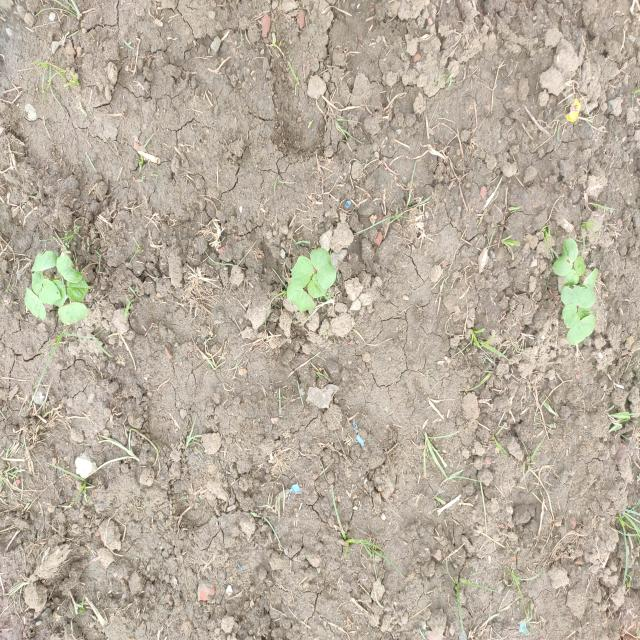seedling: (311, 248, 336, 289), (553, 238, 578, 276), (287, 280, 315, 313), (567, 315, 596, 345), (56, 252, 82, 284), (561, 285, 595, 308), (24, 288, 46, 321), (291, 257, 314, 287), (58, 303, 89, 325), (39, 278, 62, 305), (66, 278, 91, 302), (31, 251, 57, 272), (308, 273, 326, 298), (562, 304, 580, 328), (52, 280, 66, 308), (582, 269, 599, 290), (31, 271, 44, 295), (573, 256, 586, 276), (564, 269, 579, 285), (577, 308, 593, 320)
